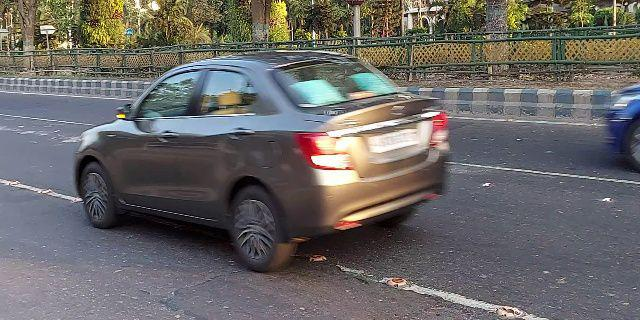Car: (67, 53, 452, 278)
